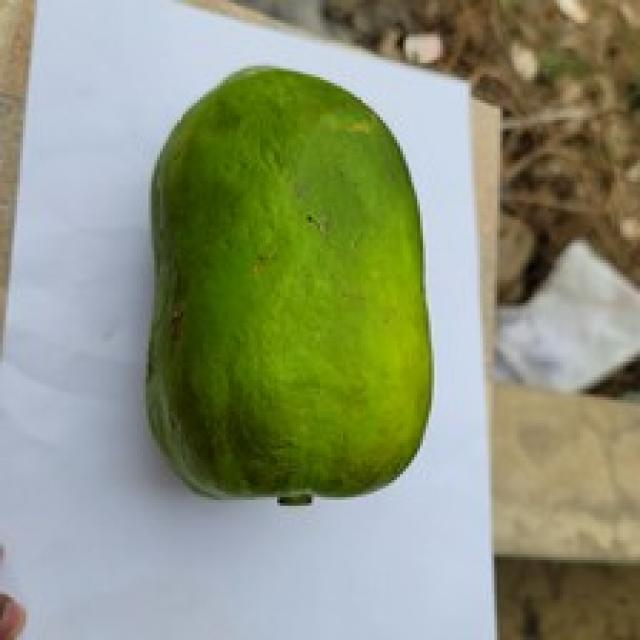Pepaya unrippen: (145, 65, 441, 524)
